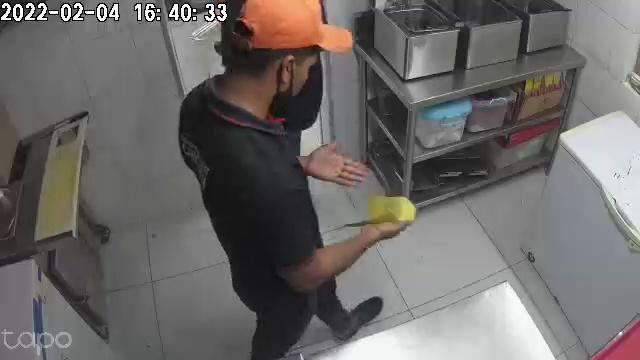no_gloves: (303, 146, 369, 193)
